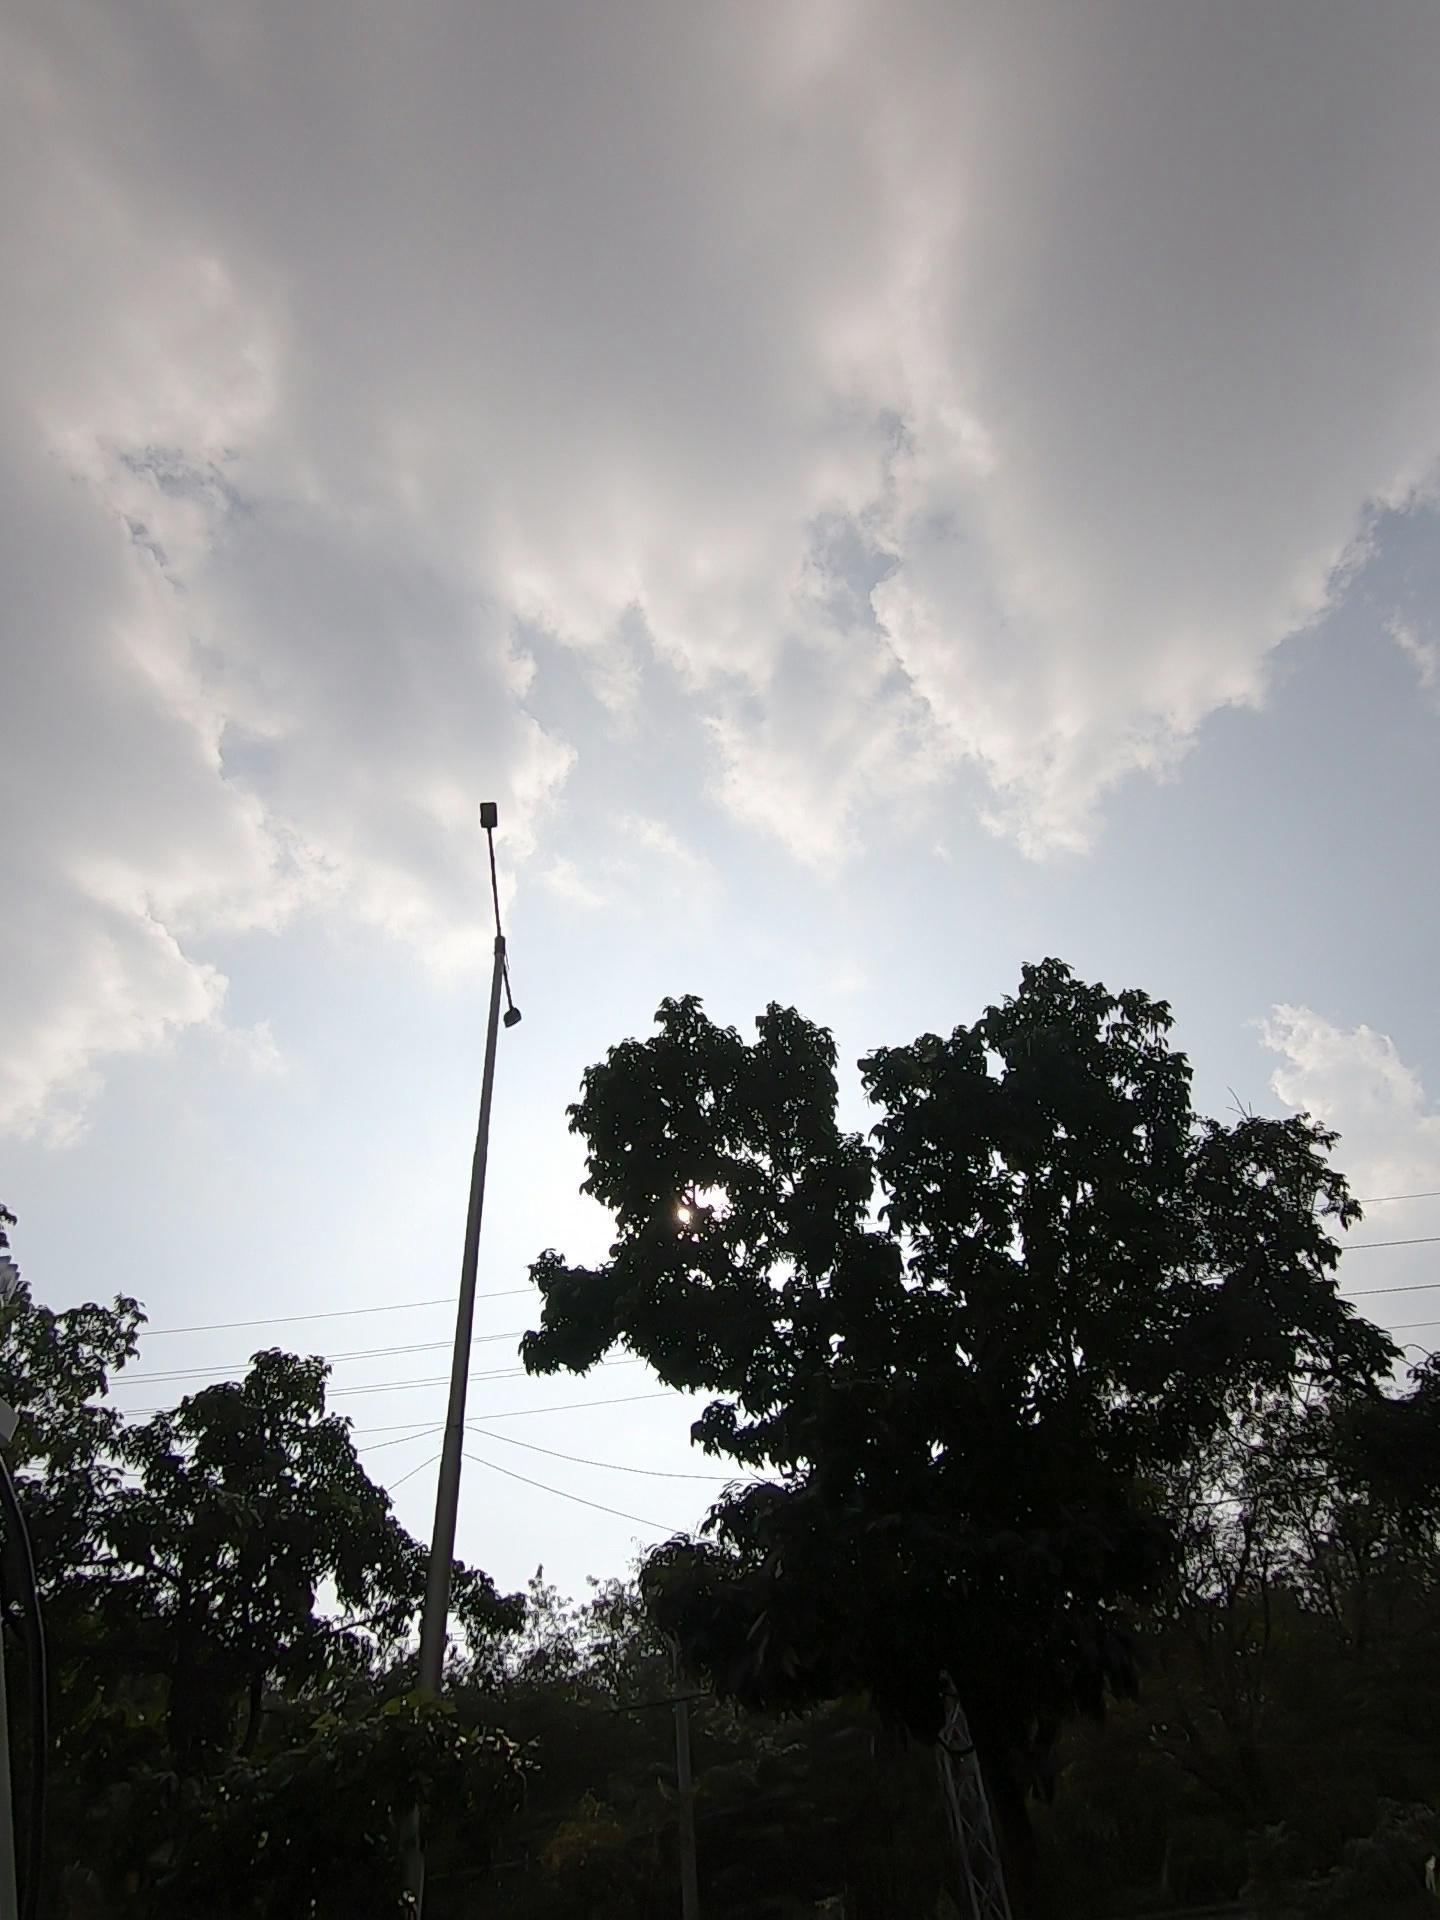off: (360, 691, 623, 1075)
